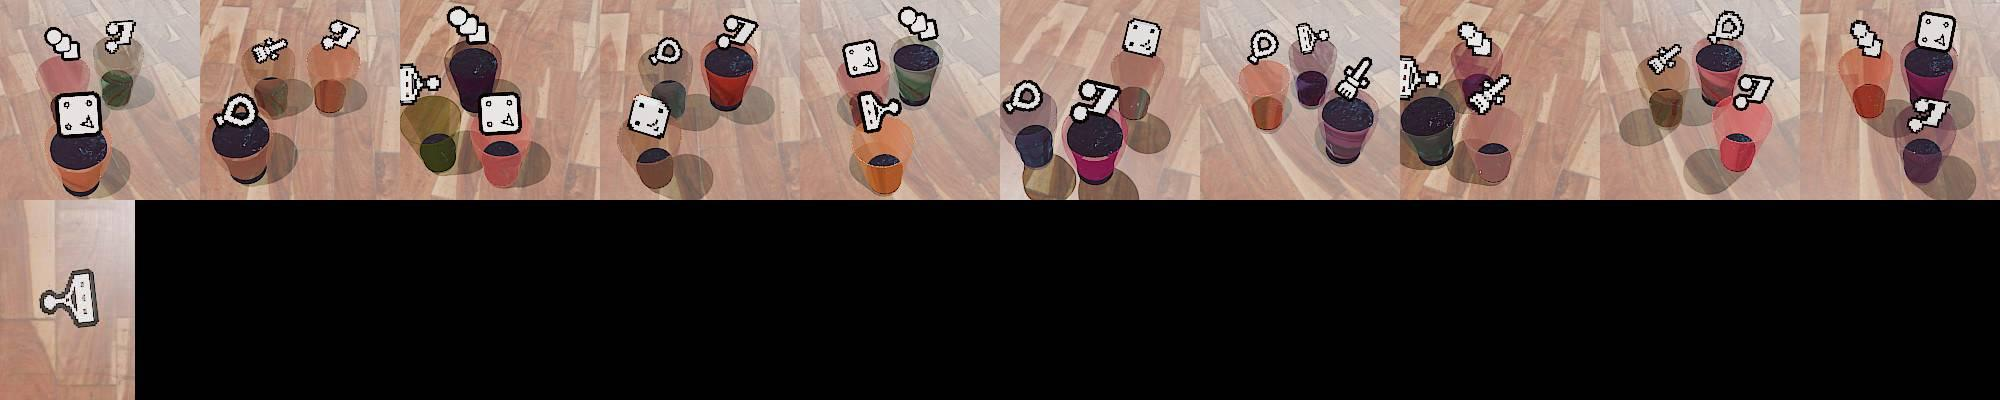icon: (35, 269, 100, 329), (1071, 77, 1124, 118), (856, 89, 905, 133), (55, 92, 102, 137), (1465, 71, 1511, 116), (627, 91, 671, 138), (399, 62, 444, 106), (479, 92, 521, 135), (1399, 55, 1438, 100), (1121, 17, 1162, 59), (1916, 11, 1957, 53), (446, 6, 490, 45), (214, 92, 261, 128), (1733, 72, 1775, 112), (1335, 56, 1374, 99), (1908, 96, 1952, 132), (842, 39, 881, 79), (1002, 78, 1043, 115), (719, 14, 759, 50), (898, 6, 939, 41), (1456, 21, 1493, 58), (43, 28, 82, 63), (1850, 19, 1884, 58), (103, 19, 138, 56), (1247, 27, 1281, 65), (322, 19, 361, 52), (1709, 10, 1744, 44), (1295, 21, 1328, 56), (648, 36, 684, 68), (1647, 43, 1681, 76), (250, 36, 289, 64)
